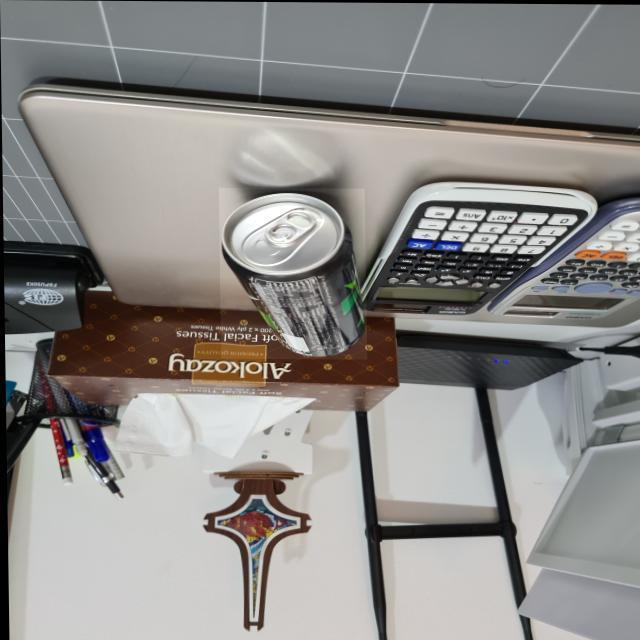trash: (216, 188, 360, 304)
